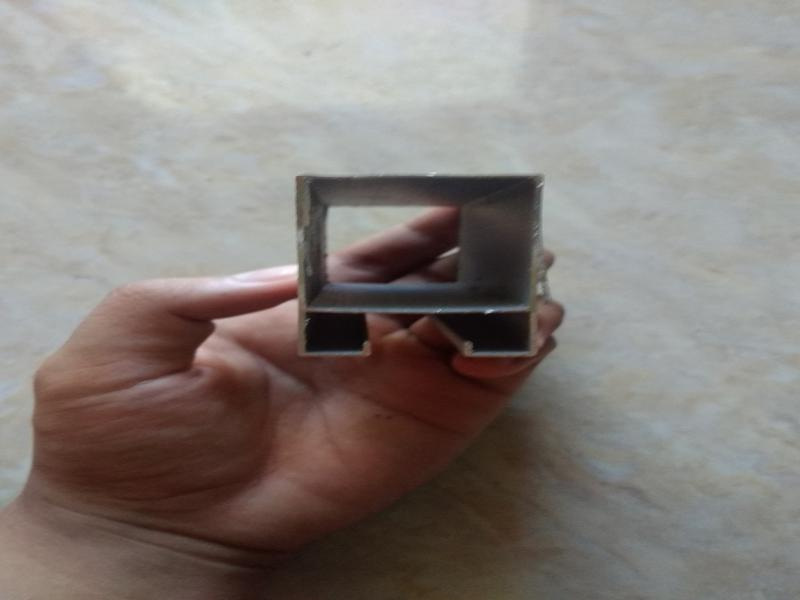Aluminium_1: (283, 159, 559, 364)
